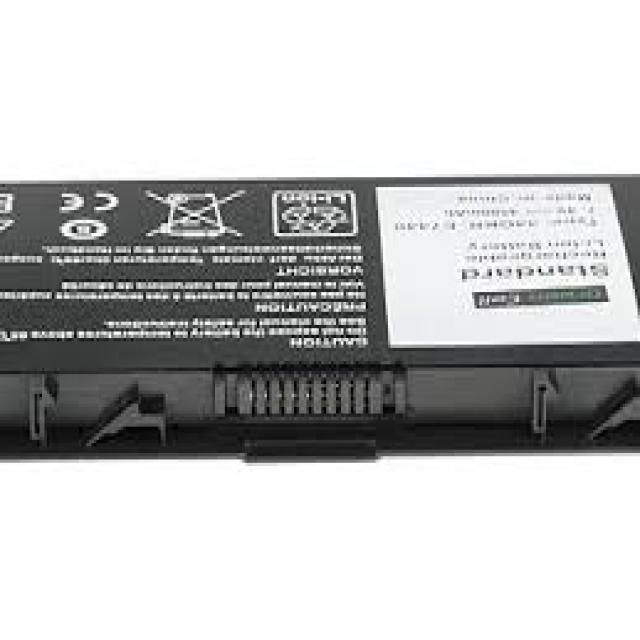Battery: (0, 105, 640, 535)
